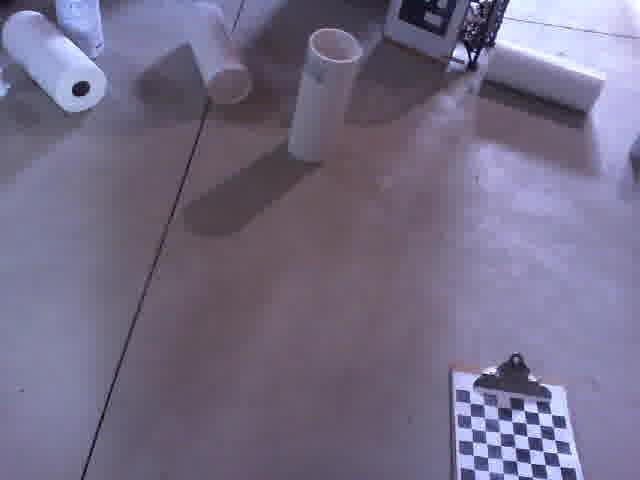coral: (281, 22, 371, 165), (479, 34, 615, 110), (175, 0, 258, 110)
